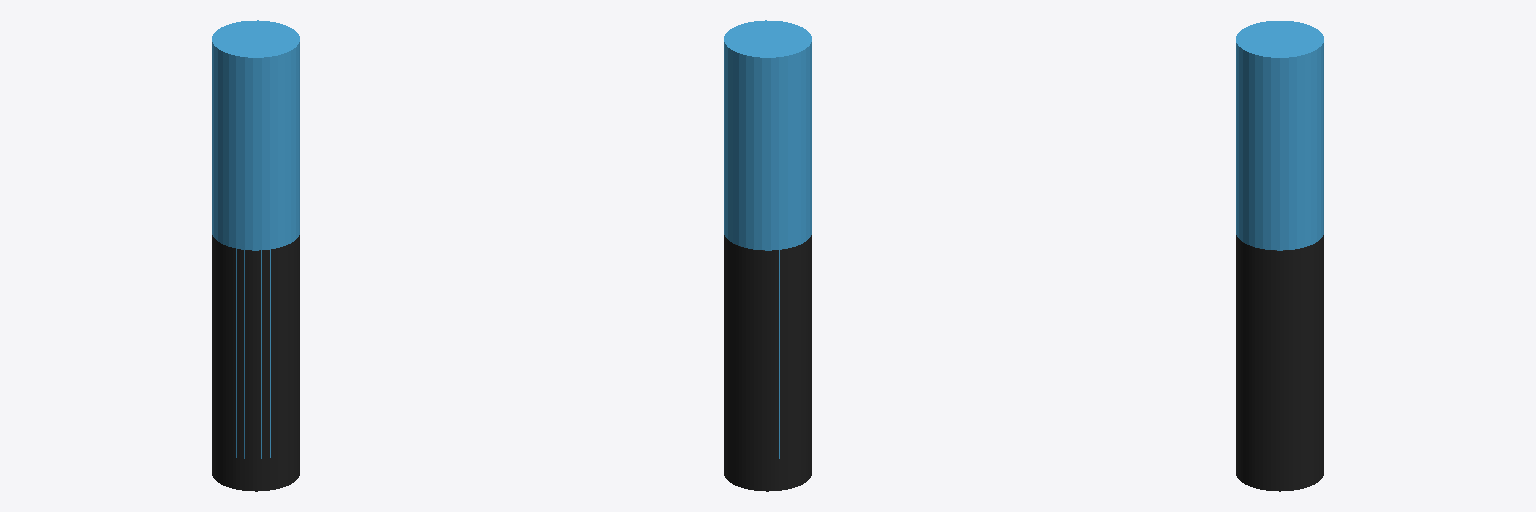
robot.urdf — cylinder.urdf:
<?xml version="0.0" ?>
<robot name="cylinder.urdf">
  <link name="headLink">
    <contact>
      <lateral_friction value="1.0"/>
      <rolling_friction value="0.0001"/>
      <inertia_scaling value="3.0"/>
    </contact>
    <inertial>
      <origin rpy="0 0 0" xyz="0 0 0"/>
       <mass value=".1"/>
       <inertia ixx="1" ixy="0" ixz="0" iyy="1" iyz="0" izz="1"/>
    </inertial>
    <visual>
      <origin rpy="0 0 0" xyz="0 0 0"/>
      <geometry>
        <mesh filename="head.obj" scale="0.001 0.001 0.001"/>
      </geometry>
      <material name="darkgrey">
        <color rgba="0.2 0.2 0.2 1"/>
      </material>
    </visual>
    <collision>
      <origin rpy="0 0 0" xyz="0 0 0"/>
      <geometry>
        <mesh filename="head.obj" scale="0.001 0.001 0.001"/>
      </geometry>
    </collision>
  </link>

  <joint name="tipJoint" type="fixed">
    <parent link="headLink"/>
    <child link="tipLink"/>
    <origin rpy="0.0 0.0 0.0" xyz="0.0 0.0 0.029"/>
    <axis xyz="0 0 1"/>
    <limit effort="150.0" lower="-6.28318530718" upper="6.28318530718" velocity="3.15"/>
    <dynamics damping="10.0" friction="0.0"/>
  </joint>

  <link name="tipLink">
    <contact>
      <lateral_friction value="1.0"/>
      <rolling_friction value="0.0001"/>
      <inertia_scaling value="3.0"/>
    </contact>
    <inertial>
      <origin rpy="0 0 0" xyz="0 0 0"/>
       <mass value=".1"/>
       <inertia ixx="1" ixy="0" ixz="0" iyy="1" iyz="0" izz="1"/>
    </inertial>
    <visual>
      <origin rpy="0 0 0" xyz="0 0 0"/>
      <geometry>
        <cylinder length="0.05" radius="0.005"/>
      </geometry>
      <material name="blue">
        <color rgba="0.18039216, 0.50588235, 0.77254902 1"/>
      </material>
    </visual>
    <collision>
      <origin rpy="0 0 0" xyz="0 0 0"/>
      <geometry>
        <cylinder length="0.05" radius="0.005"/>
      </geometry>
    </collision>
  </link>

  <!-- <link name="asdfLink">
    <contact>
      <lateral_friction value="1.0"/>
      <rolling_friction value="0.0001"/>
      <inertia_scaling value="3.0"/>
    </contact>
    <inertial>
      <origin rpy="0 0 0" xyz="0 0 0"/>
       <mass value=".1"/>
       <inertia ixx="1" ixy="0" ixz="0" iyy="1" iyz="0" izz="1"/>
    </inertial>
    <visual>
      <origin rpy="0 0 0" xyz="0 0 0"/>
      <geometry>
        <cylinder length="0.028" radius="0.001"/>
      </geometry>
    </visual>
  </link>

  <joint name="asdfoint" type="fixed">
    <parent link="tipLink"/>
    <child link="asdfLink"/>
    <origin rpy="0.0 0.0 0.0" xyz="0.0 0.0 0.0"/>
    <axis xyz="0 0 1"/>
    <limit effort="150.0" lower="-6.28318530718" upper="6.28318530718" velocity="3.15"/>
    <dynamics damping="10.0" friction="0.0"/>
  </joint> -->


</robot>

--- What the picture shows (computed from the rendered views, not written in the file) ---
3 views of the same robot in one strip: view 1: azimuth 30°, elevation 25°; view 2: azimuth 150°, elevation 25°; view 3: azimuth 270°, elevation 25° (orthographic).
Model cylinder.urdf with 2 links and 1 joints (1 fixed), rooted at headLink, posed all joints at 0.
Links seen in each view (by area): view 1: tipLink, headLink; view 2: headLink, tipLink; view 3: headLink, tipLink.
Link boxes in pixels (x1=…): tipLink: x1=212, y1=20, x2=299, y2=458; headLink: x1=212, y1=235, x2=299, y2=491; headLink: x1=724, y1=235, x2=811, y2=491; tipLink: x1=724, y1=20, x2=811, y2=458; headLink: x1=1236, y1=235, x2=1323, y2=491; tipLink: x1=1236, y1=21, x2=1323, y2=250.
Size in the robot's own frame: 0.01 by 0.01 by 0.054 metres.
1 mesh visuals loaded from 1 distinct referenced files (1 OBJ).